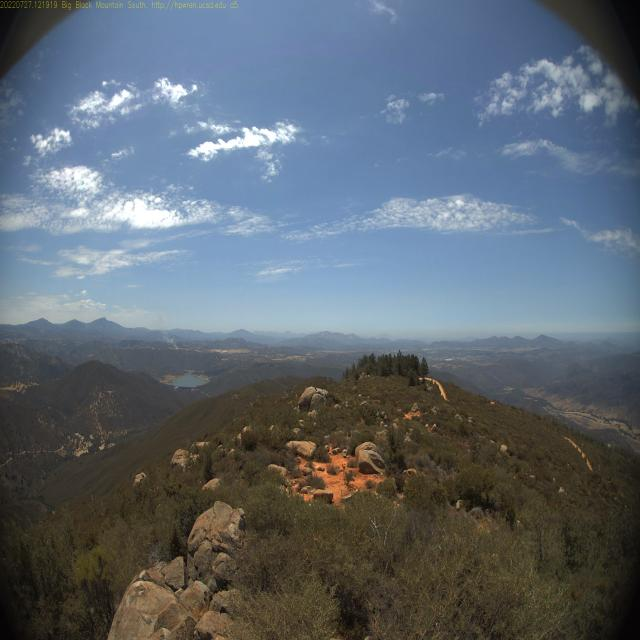smoke: (135, 272, 166, 329), (160, 319, 181, 354)
